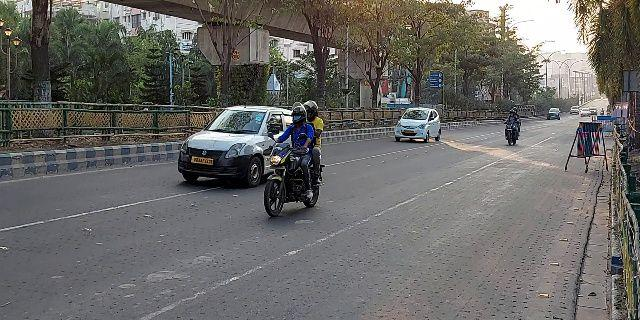Car: (174, 101, 292, 188), (392, 103, 443, 147)
Motorbike: (263, 98, 325, 221), (502, 103, 523, 150)
